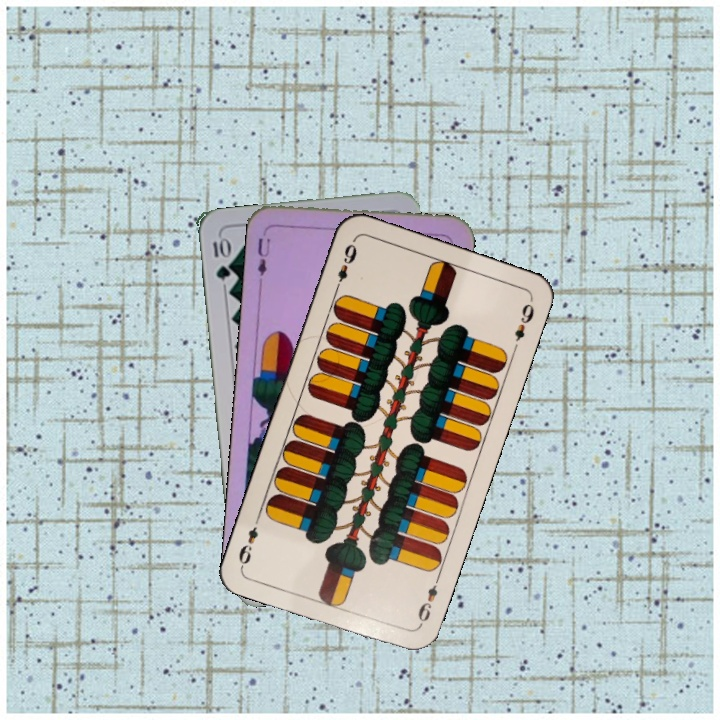E9: (413, 572, 443, 629), (331, 239, 360, 294)
EU: (252, 234, 273, 285)
G10: (209, 233, 232, 283)
